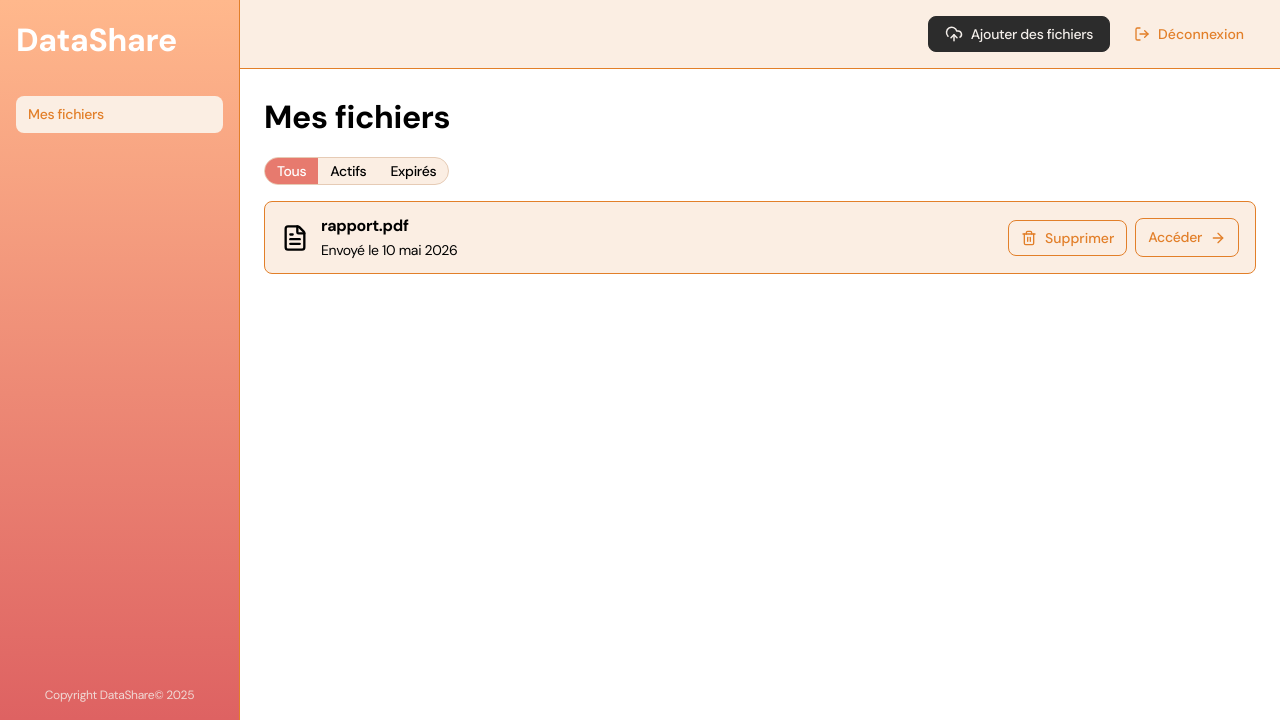
Scenario: MyFilesPage › le bouton Supprimer appelle DELETE /api/files/{id} et flippe le statut localement
The width and height of the screenshot is (1280, 720).
Expected: the text "rapport.pdf" is shown, [321,215,408,236]
Click the button with aria-label "Supprimer rapport.pdf" at (1068,238), box [1008,220,1127,256]
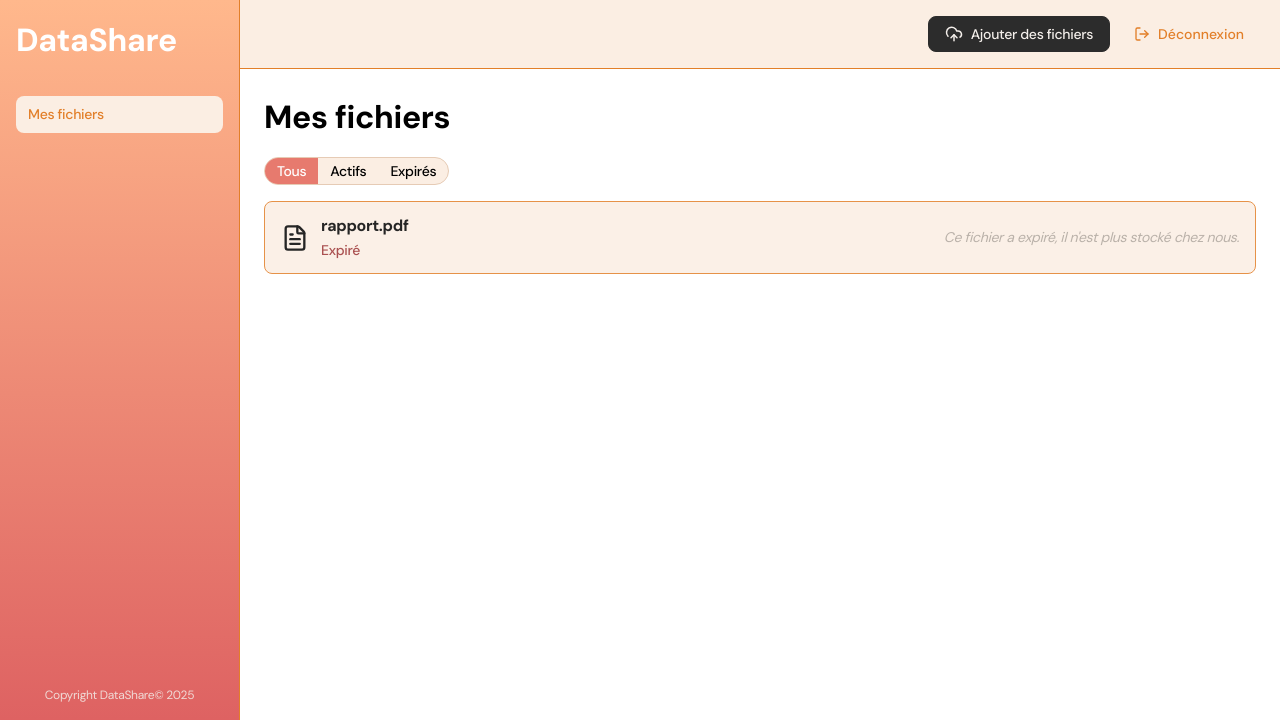
Now the text "Expiré" is shown, box [321,241,360,259]
